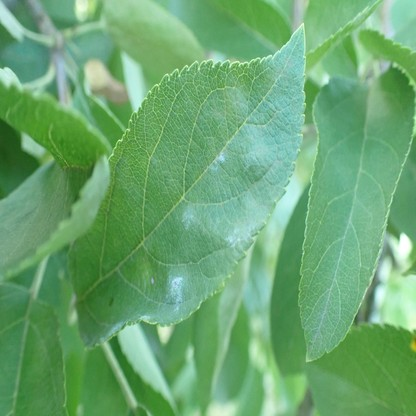frogeye: (150, 277, 154, 287)
powder: (225, 217, 258, 247), (167, 268, 184, 311), (209, 152, 225, 173), (182, 204, 194, 227), (243, 153, 257, 171)
rust: (410, 339, 416, 350)
scab: (137, 260, 150, 290)
